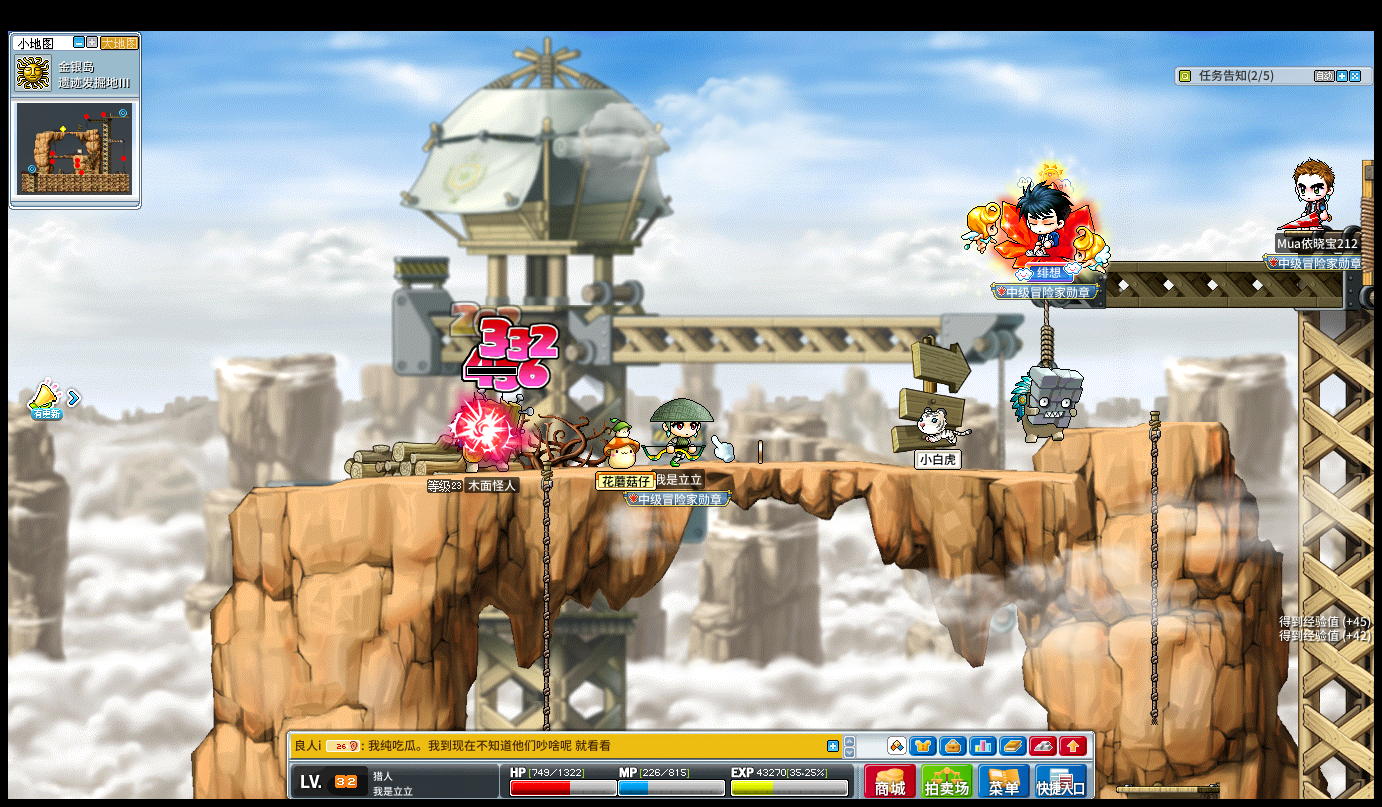floor: (248, 455, 1148, 484), (1066, 417, 1227, 434)
monster: (451, 391, 528, 470), (1010, 365, 1084, 445)
rope: (1146, 405, 1161, 729), (539, 459, 552, 741), (540, 459, 552, 673)
